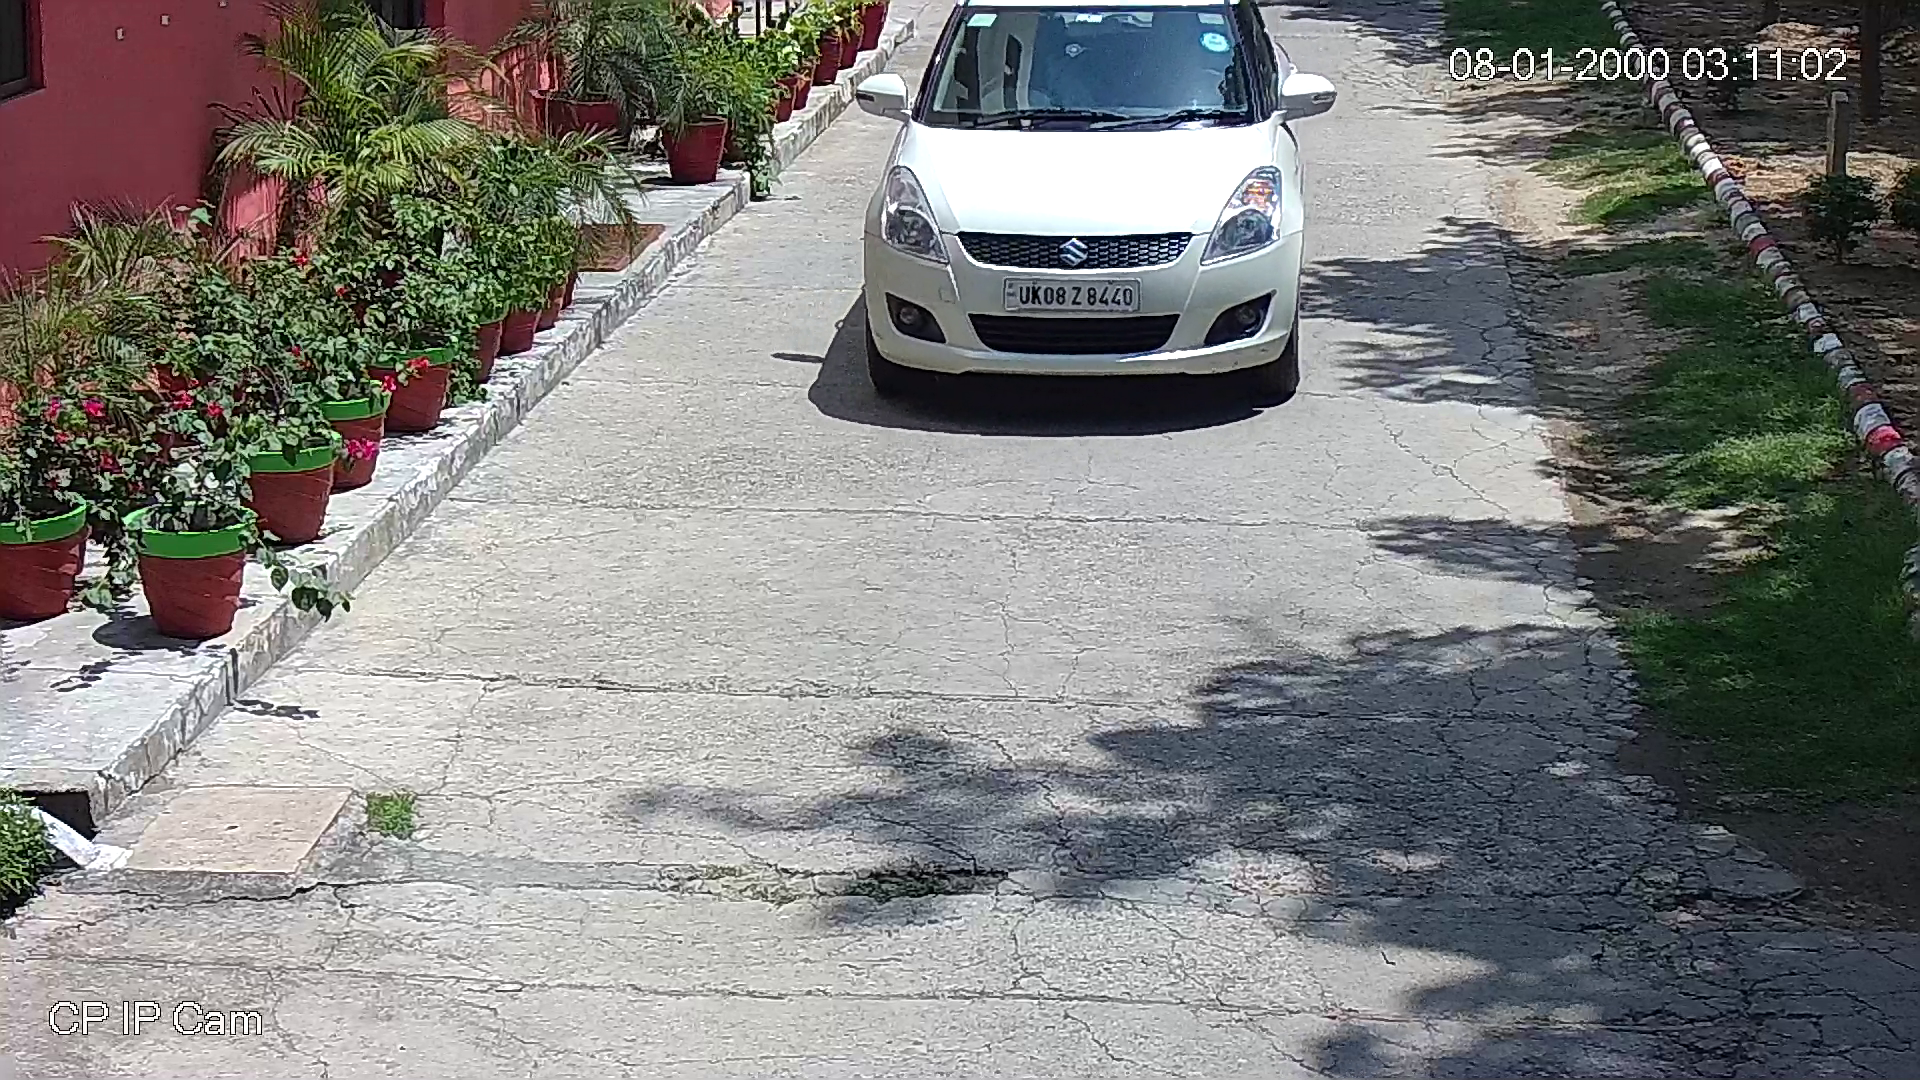plate: (1001, 274, 1141, 311)
